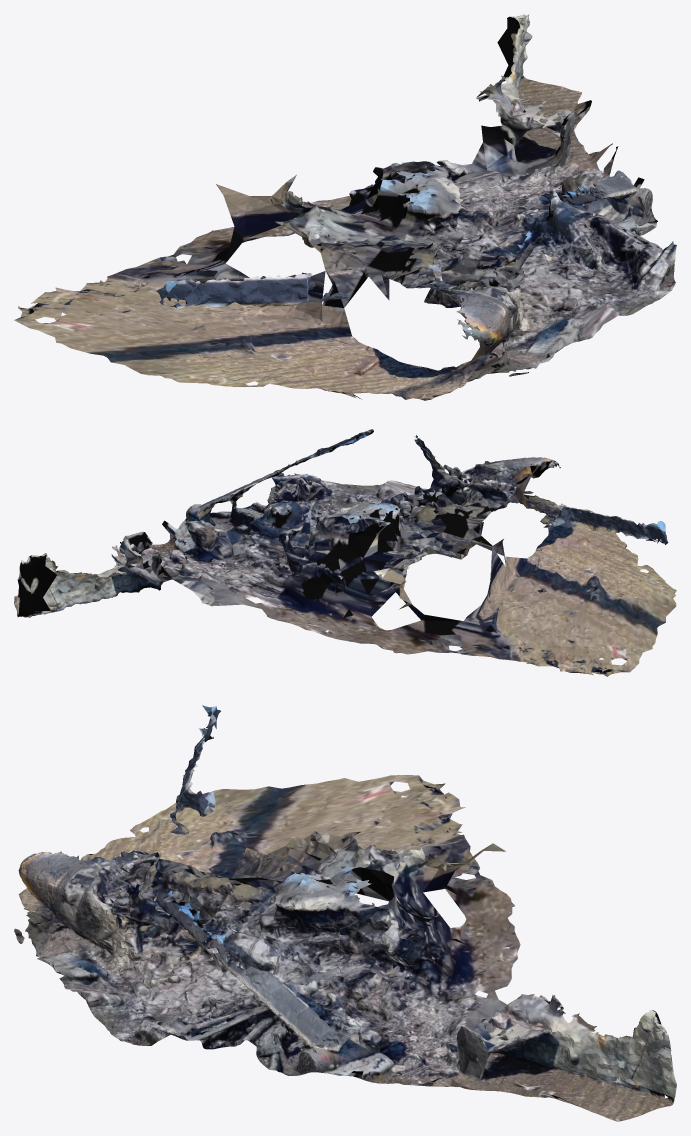
3 renders of one model, top to bottom at view 1: azimuth 30°, elevation 25°; view 2: azimuth 150°, elevation 25°; view 3: azimuth 270°, elevation 25°, orthographic. The views are drawn at different scales.
Parts seen in each view (by area): view 1: texturedMesh; view 2: texturedMesh; view 3: texturedMesh.
Boxes of the visible parts, x1,y1,x2,y2 form: texturedMesh: [14, 14, 676, 400]; texturedMesh: [14, 429, 676, 676]; texturedMesh: [14, 705, 676, 1121].
Bounding box in the file's own units: 14.15 × 2.3 × 11.49.
Materials: 1 (1 with a texture image).
